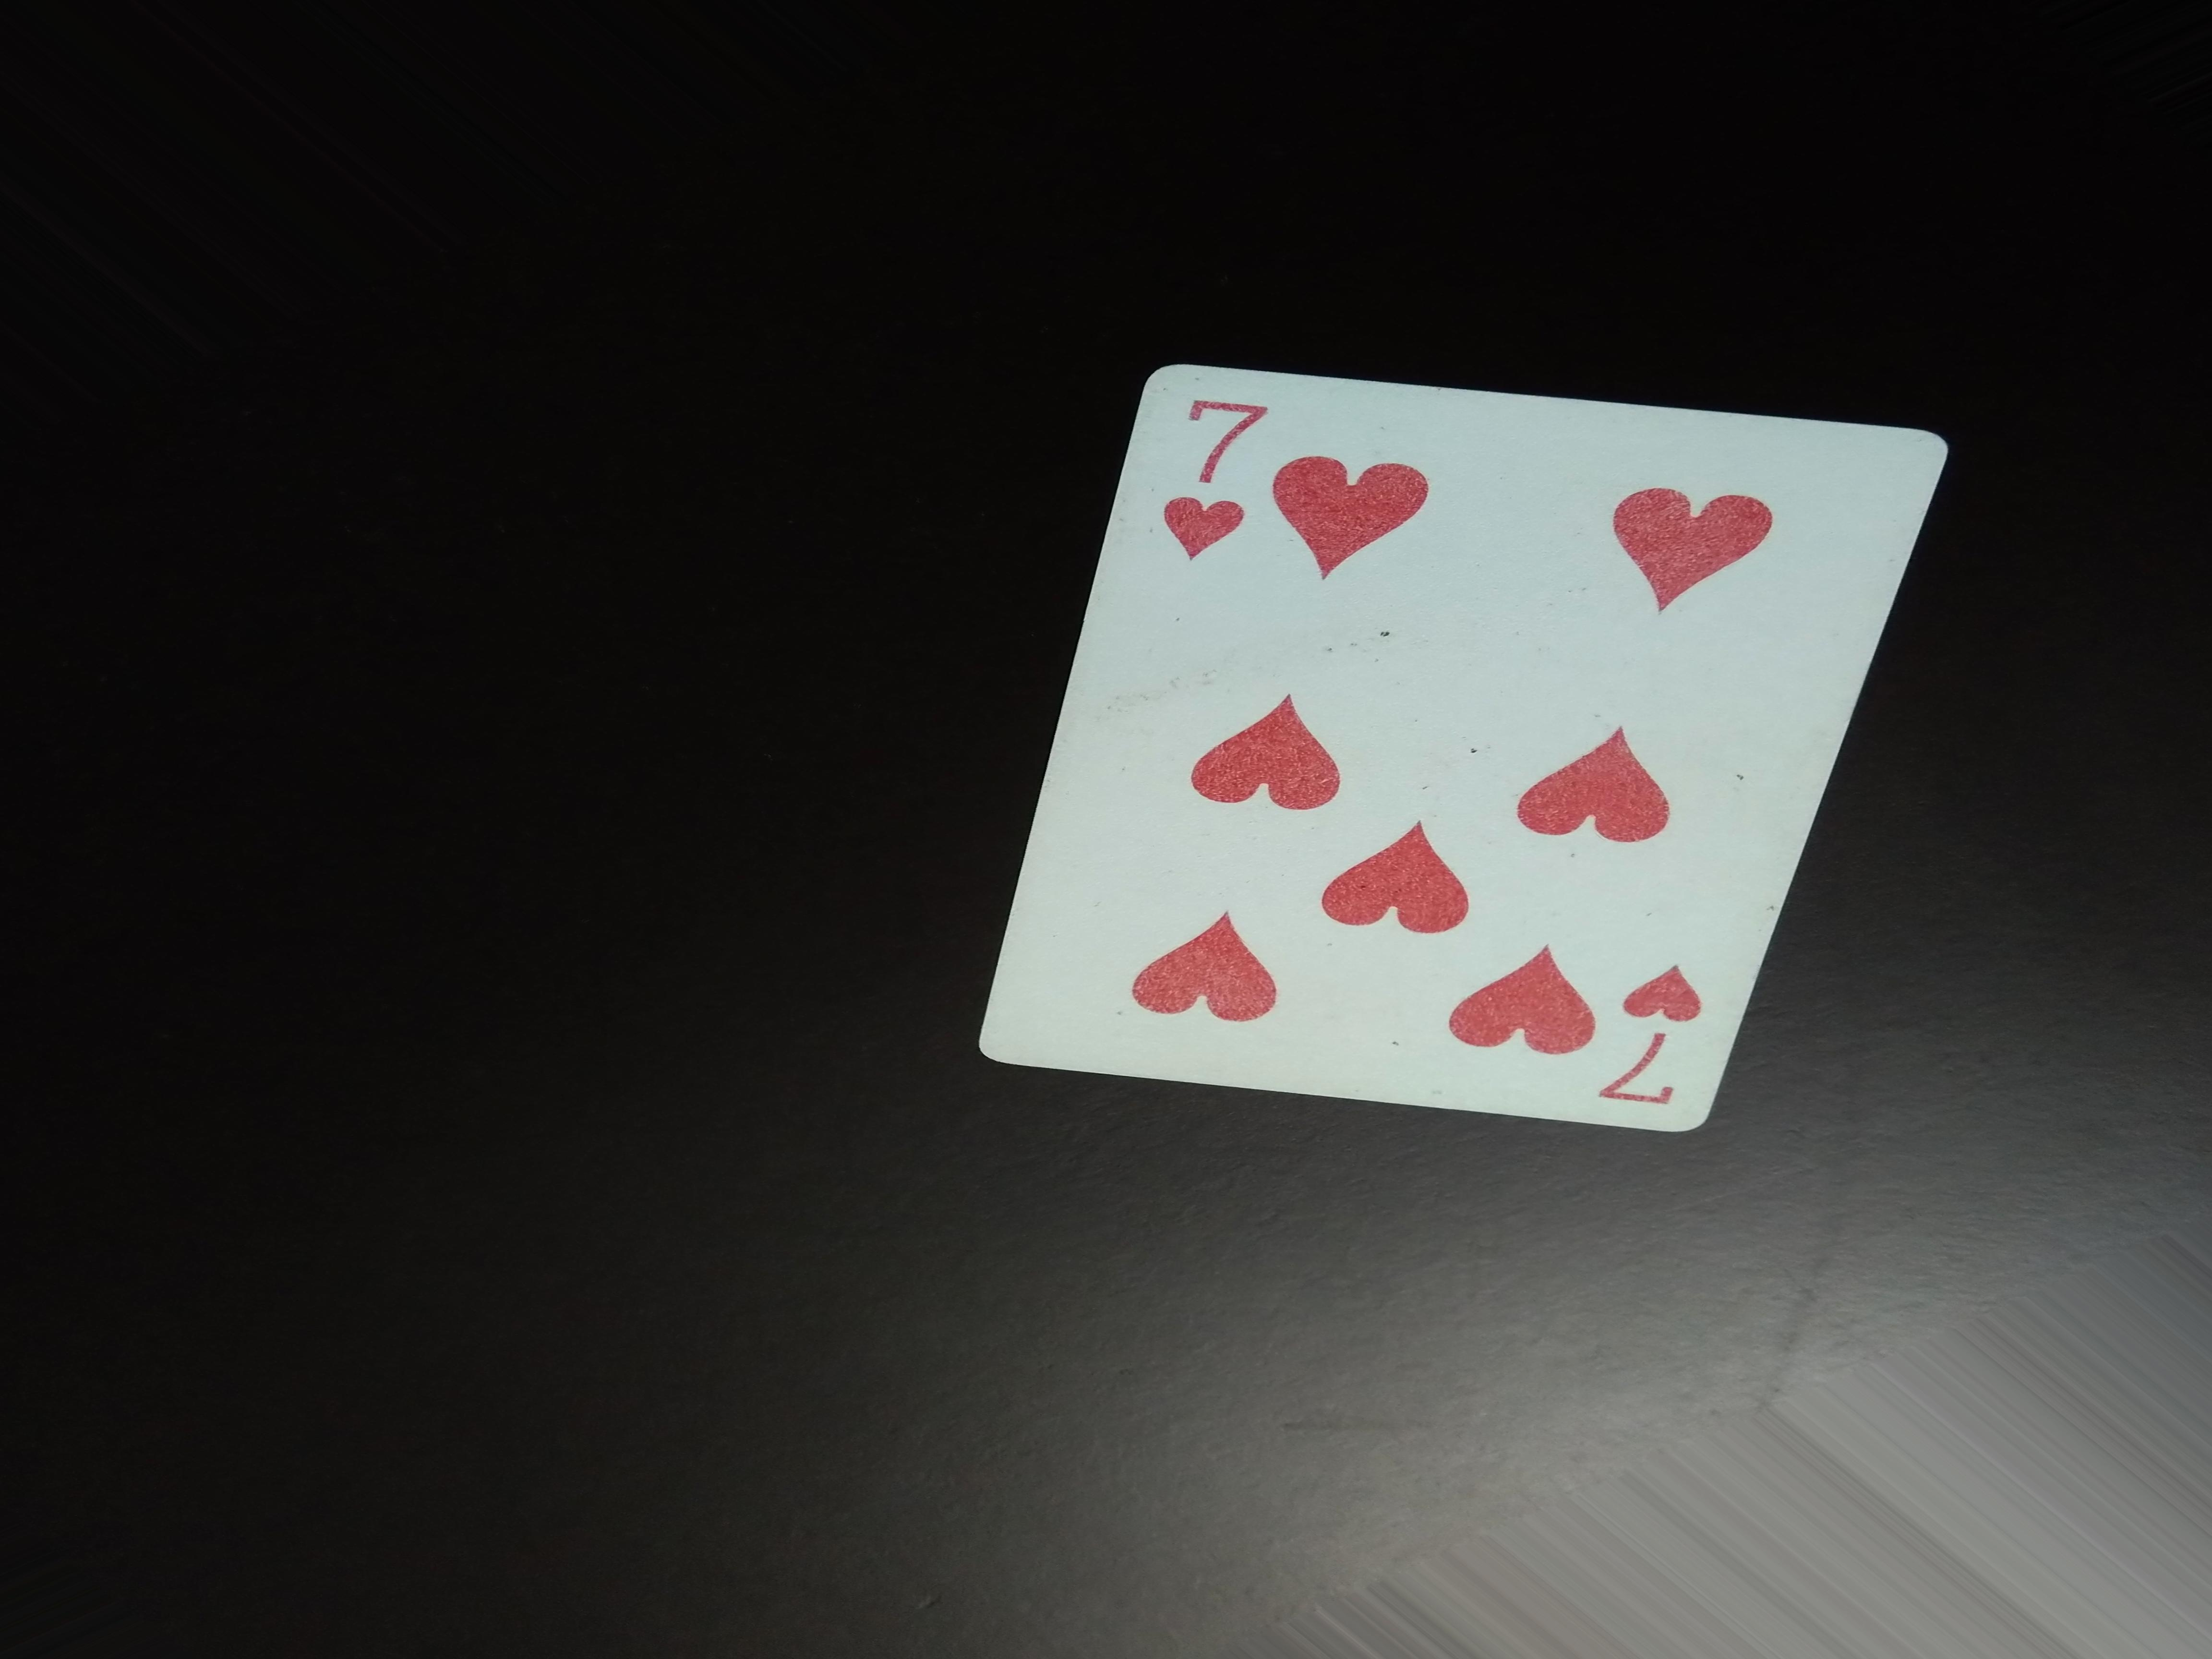7H: (1144, 369, 1277, 565)
